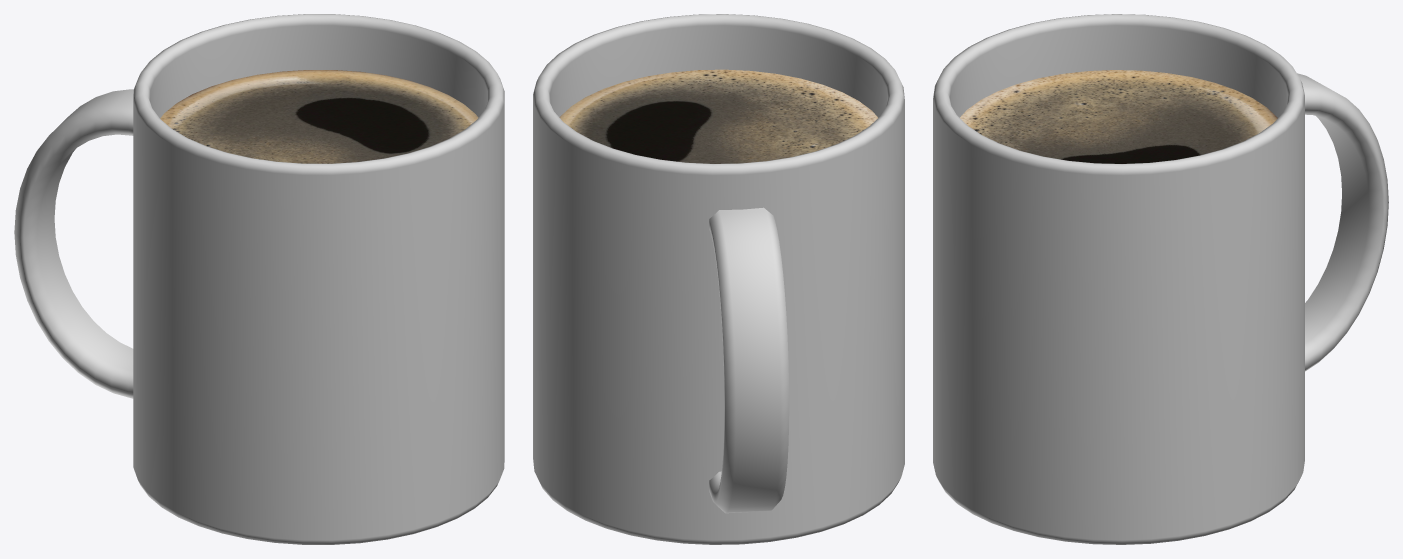
File: coffee_mug.gltf
The picture shows the model from 3 angles, left to right: view 1: azimuth 30°, elevation 25°; view 2: azimuth 150°, elevation 25°; view 3: azimuth 270°, elevation 25°; orthographic projection.
Visible parts, largest first — view 1: mug, coffee; view 2: mug, coffee; view 3: mug, coffee.
Boxes of the visible parts, x1=… form: mug: x1=14, y1=14, x2=504, y2=544; coffee: x1=160, y1=70, x2=478, y2=163; mug: x1=533, y1=14, x2=904, y2=544; coffee: x1=559, y1=69, x2=877, y2=163; mug: x1=933, y1=14, x2=1388, y2=544; coffee: x1=960, y1=70, x2=1277, y2=163.
Size of the model in its own units: 2.78 by 2.93 by 3.17.
2 materials, 1 textured.
